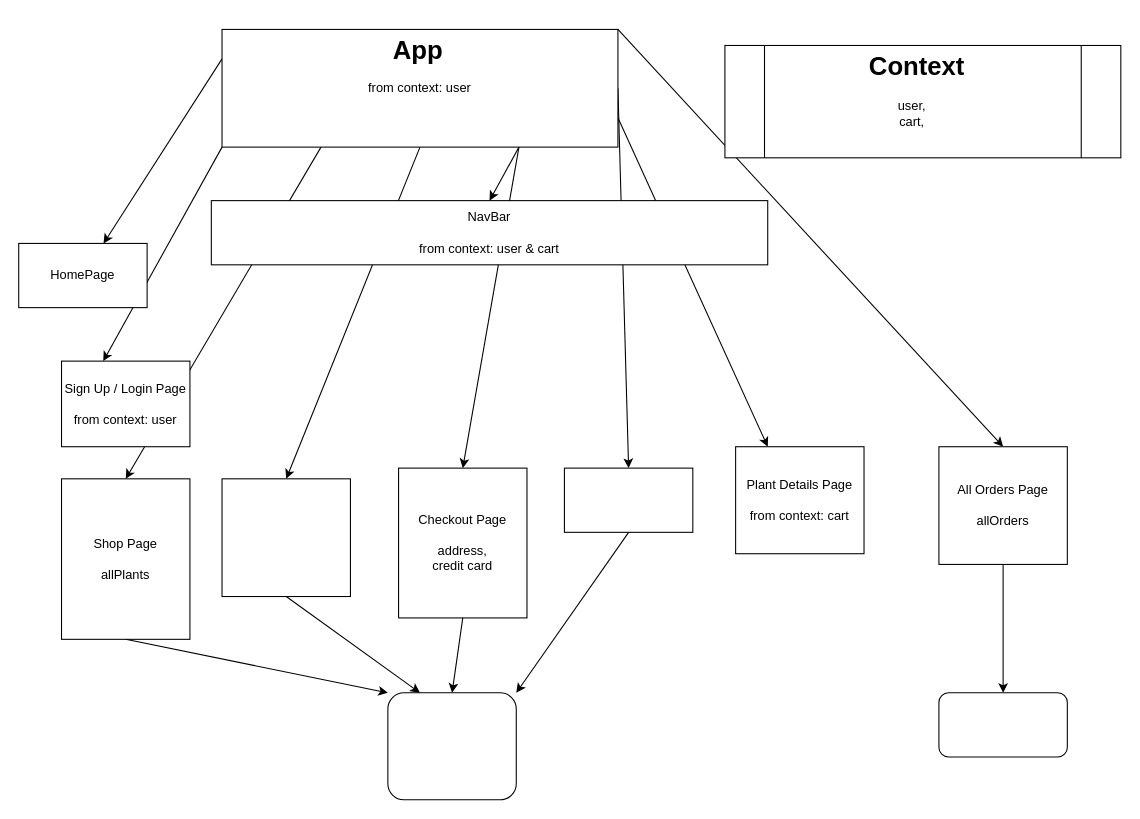
The diagram is 1140 pixels wide and 819 high, and some of its shapes have lost their labels. Each missing label, with the centre of its shape:
"Cart Page from context: cart" goes at (628,499).
"Order Date" goes at (1002,724).
"Plant Item from context: cart" goes at (451,746).
"Single Order Page singleOrder" goes at (285,537).
